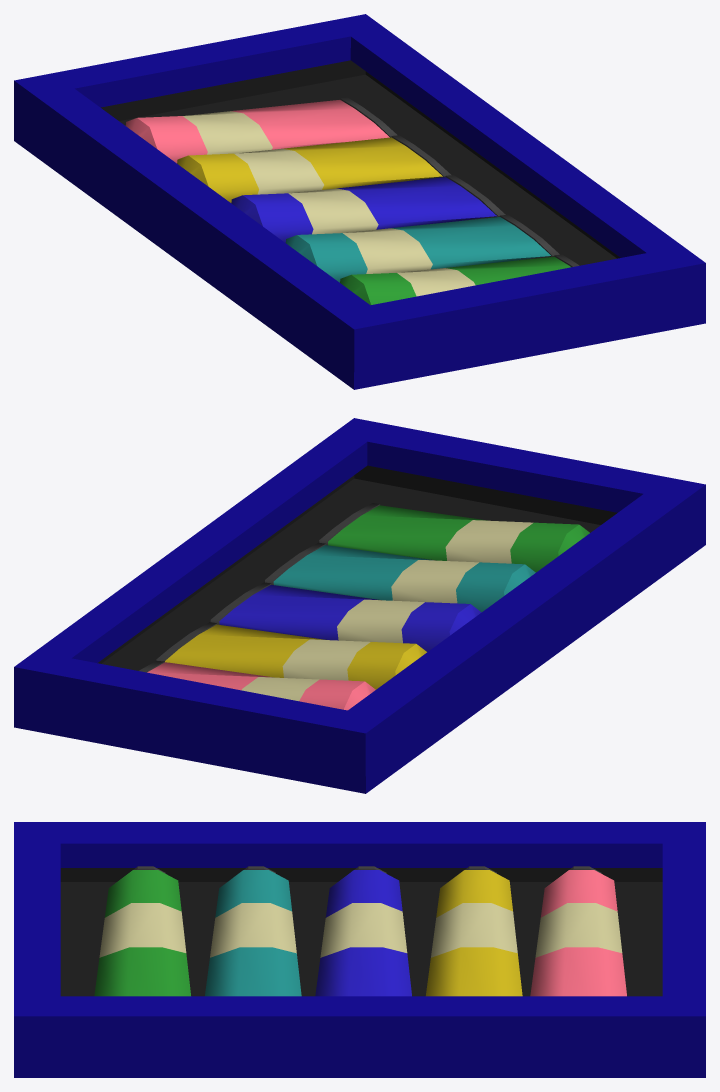
The model's file is color_s.FBX.
3 renders of one model, top to bottom at view 1: azimuth 30°, elevation 25°; view 2: azimuth 150°, elevation 25°; view 3: azimuth 270°, elevation 25°, orthographic.
Visible parts, largest first — view 1: Cylinder019; view 2: Cylinder019; view 3: Cylinder019.
Boxes of the visible parts, box(x1,y1,x2,y2) form: Cylinder019: box(14, 14, 705, 389); Cylinder019: box(14, 418, 705, 793); Cylinder019: box(14, 822, 705, 1077).
Size of the model in its own units: 18.74 by 4.06 by 31.38.
